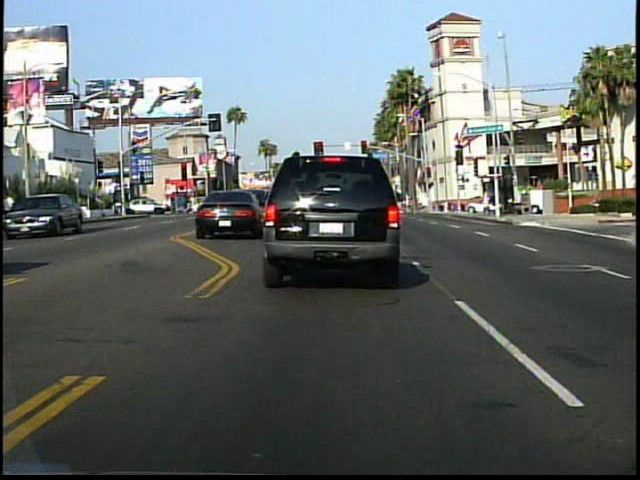person: (4, 187, 20, 229)
